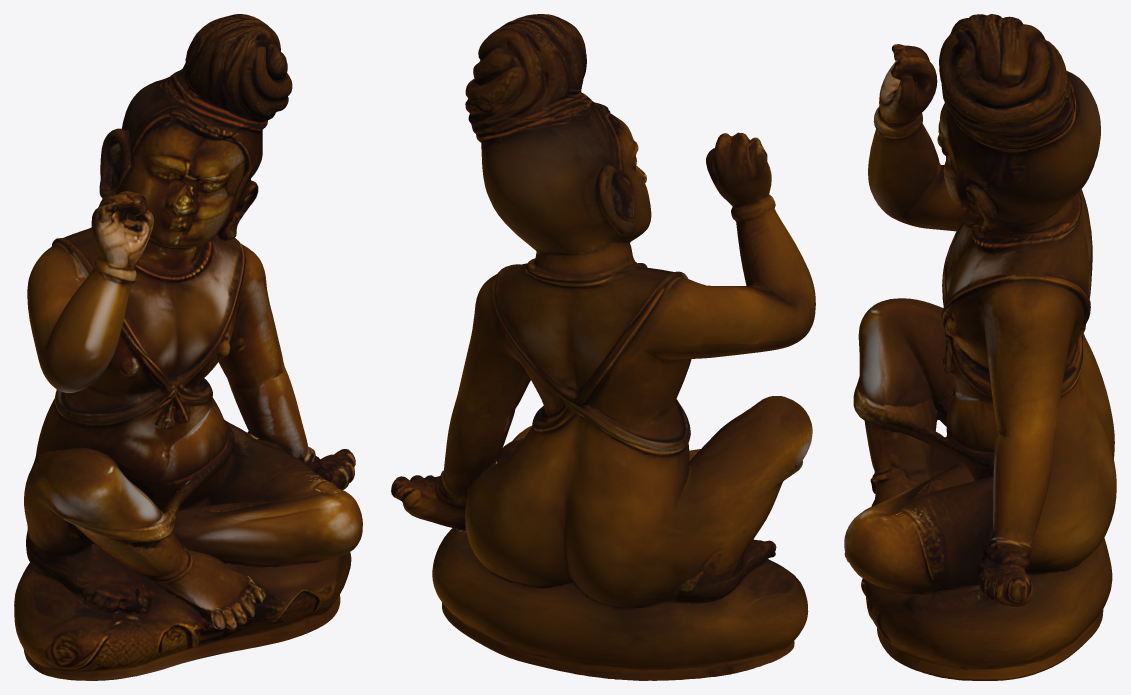
3 renders of one model, left to right at view 1: azimuth 30°, elevation 25°; view 2: azimuth 150°, elevation 25°; view 3: azimuth 270°, elevation 25°, orthographic. The views are drawn at different scales.
Parts seen in each view (by area): view 1: textured_mesh; view 2: textured_mesh; view 3: textured_mesh.
Boxes of the visible parts, <box> form: textured_mesh: <box>14,14,362,680</box>; textured_mesh: <box>391,14,815,680</box>; textured_mesh: <box>844,14,1116,680</box>.
Bounding box in the file's own units: 1.31 × 1.99 × 0.794.
Materials: 1 (1 with a texture image).
